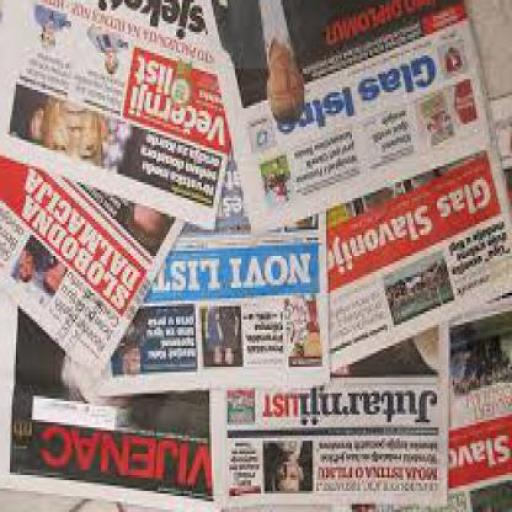paper: (204, 3, 494, 235), (65, 161, 334, 404), (314, 103, 512, 383), (2, 3, 232, 235), (2, 280, 216, 511), (216, 298, 450, 509), (2, 162, 190, 380), (450, 261, 511, 497)
